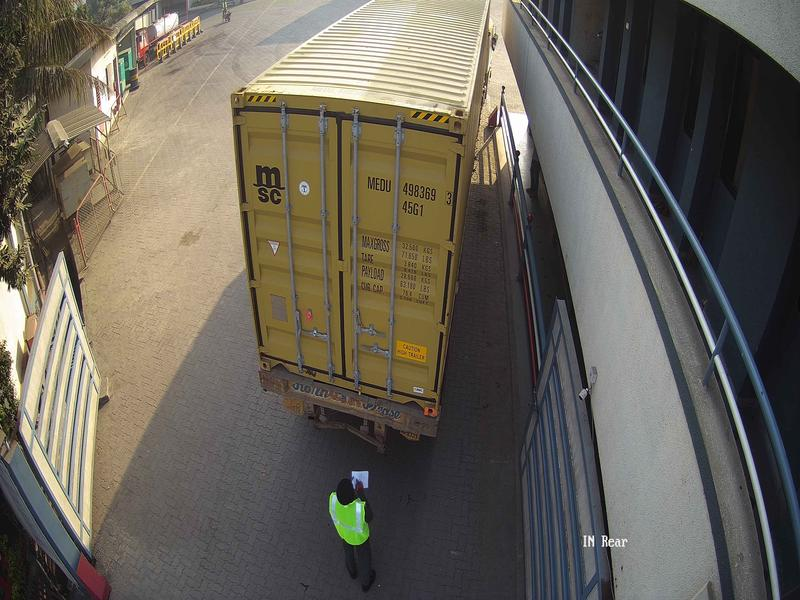container: (221, 88, 477, 416)
